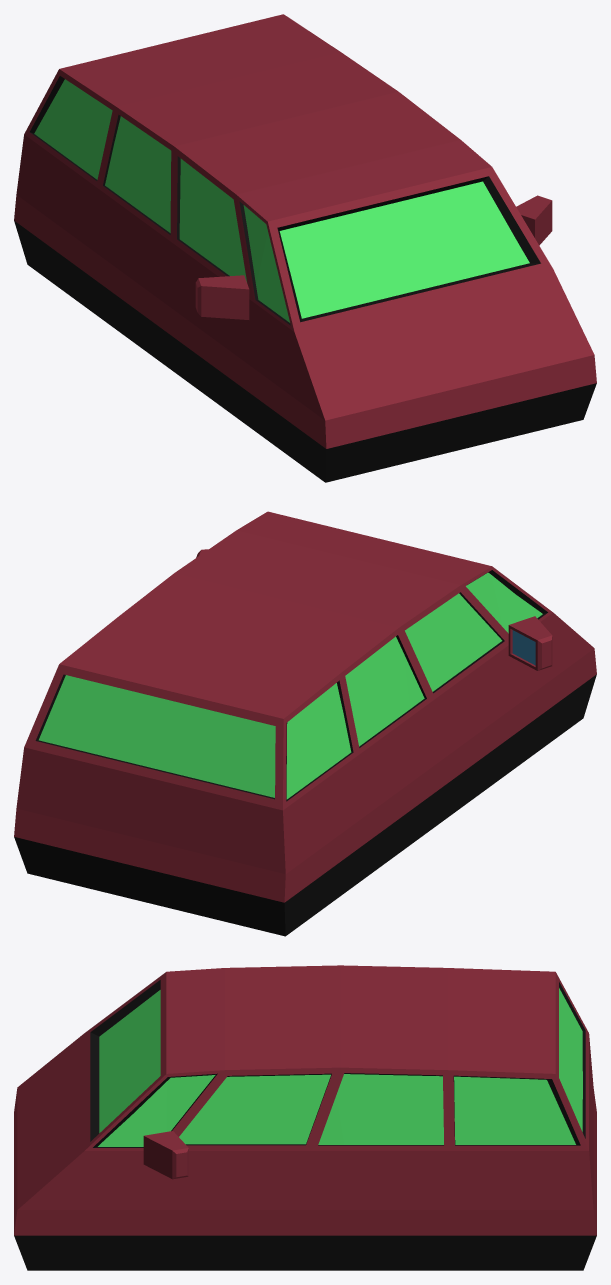
The model's file is espace_03.fbx.
3 renders of one model, top to bottom at view 1: azimuth 30°, elevation 25°; view 2: azimuth 150°, elevation 25°; view 3: azimuth 270°, elevation 25°, orthographic. The views are drawn at different scales.
Visible parts, largest first — view 1: Auto, Scheiben; view 2: Auto, Scheiben; view 3: Auto, Scheiben.
Boxes of the visible parts, x1,y1,x2,y2 form: Auto: (14,14,596,482); Scheiben: (34,79,529,322); Auto: (14,511,596,936); Scheiben: (39,572,542,799); Auto: (14,965,596,1270); Scheiben: (98,988,582,1146).
Size of the model in its own units: 274 by 155 by 419.
